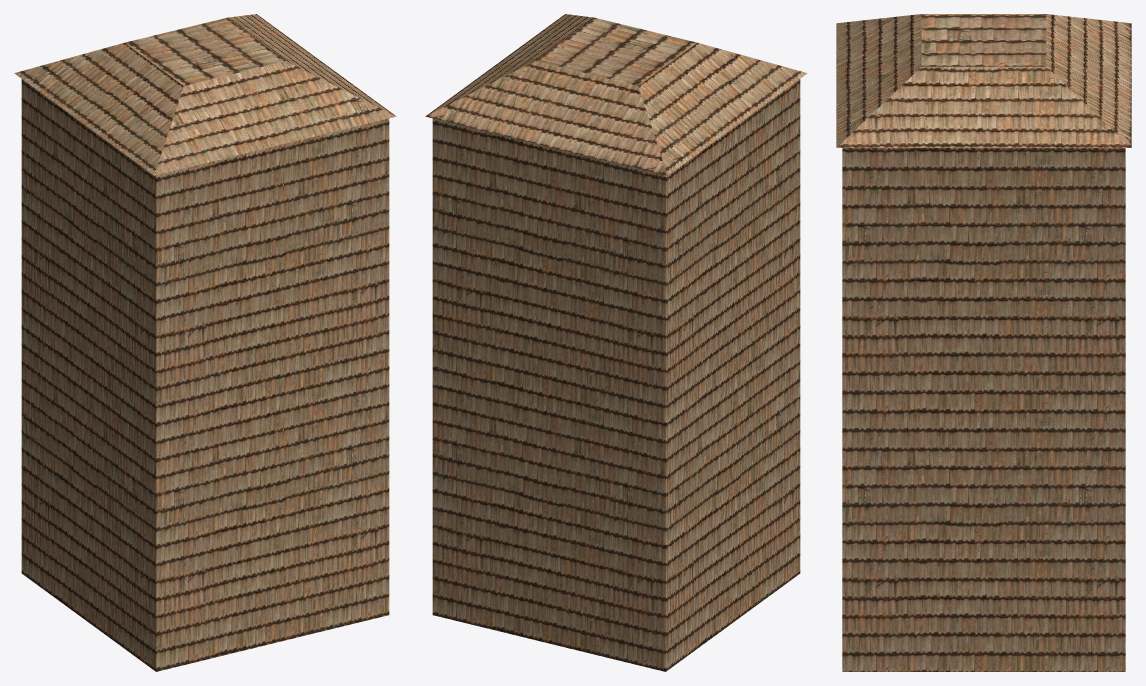
Rendered from binadad.fbx.
The picture shows the model from 3 angles, left to right: view 1: azimuth 30°, elevation 25°; view 2: azimuth 150°, elevation 25°; view 3: azimuth 270°, elevation 25°; orthographic projection. The views are drawn at different scales.
Visible parts, largest first — view 1: Cube; view 2: Cube; view 3: Cube.
Part boxes in pixels (box(x1,y1,x2,y2)): Cube: box(14, 14, 396, 671); Cube: box(425, 14, 807, 671); Cube: box(836, 14, 1131, 671).
Size of the model in its own units: 208 by 445 by 208.
